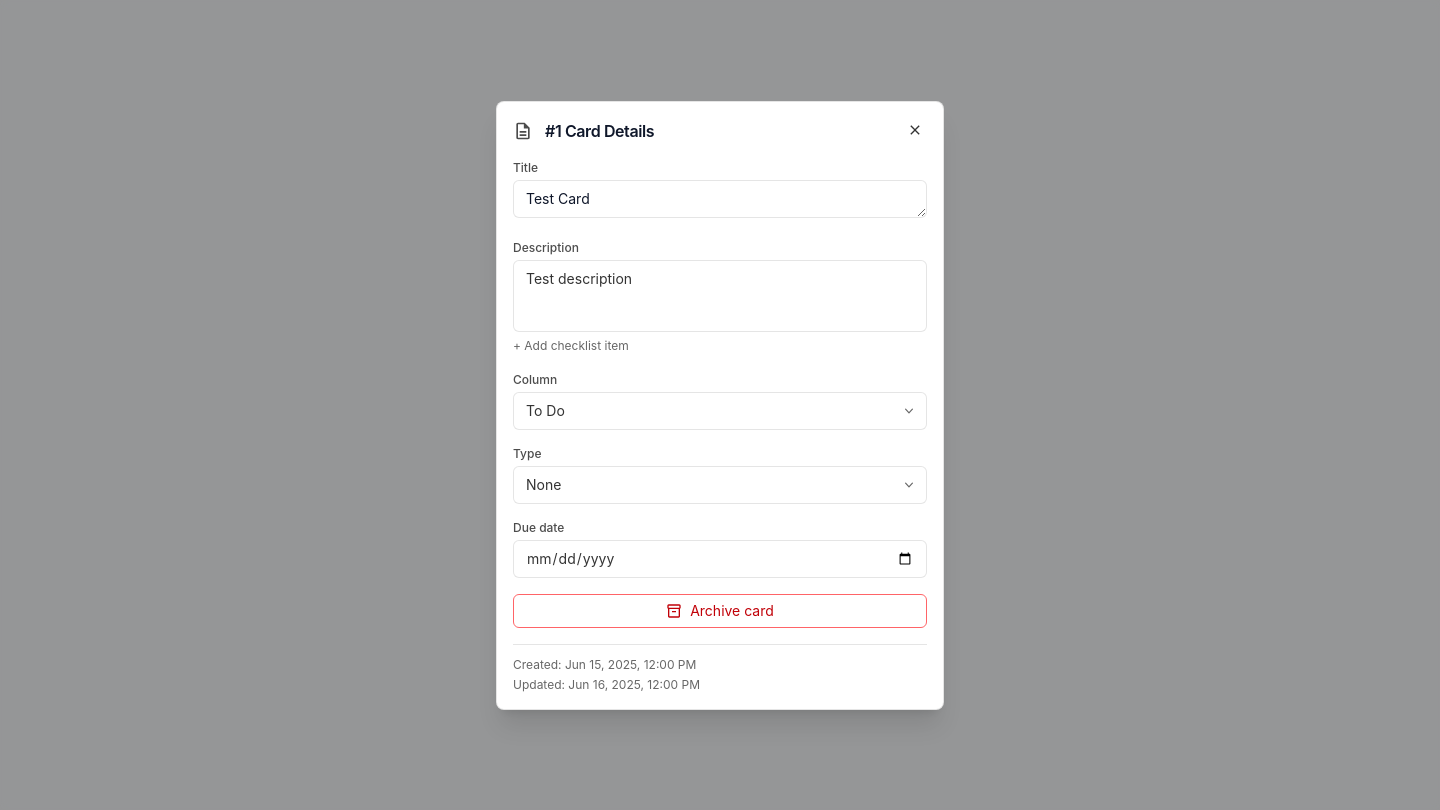
Test: CardDetailModal › saves description on blur and returns to preview
Click the element with test id "card-detail-description-preview": (720, 296) [513, 260, 927, 332]
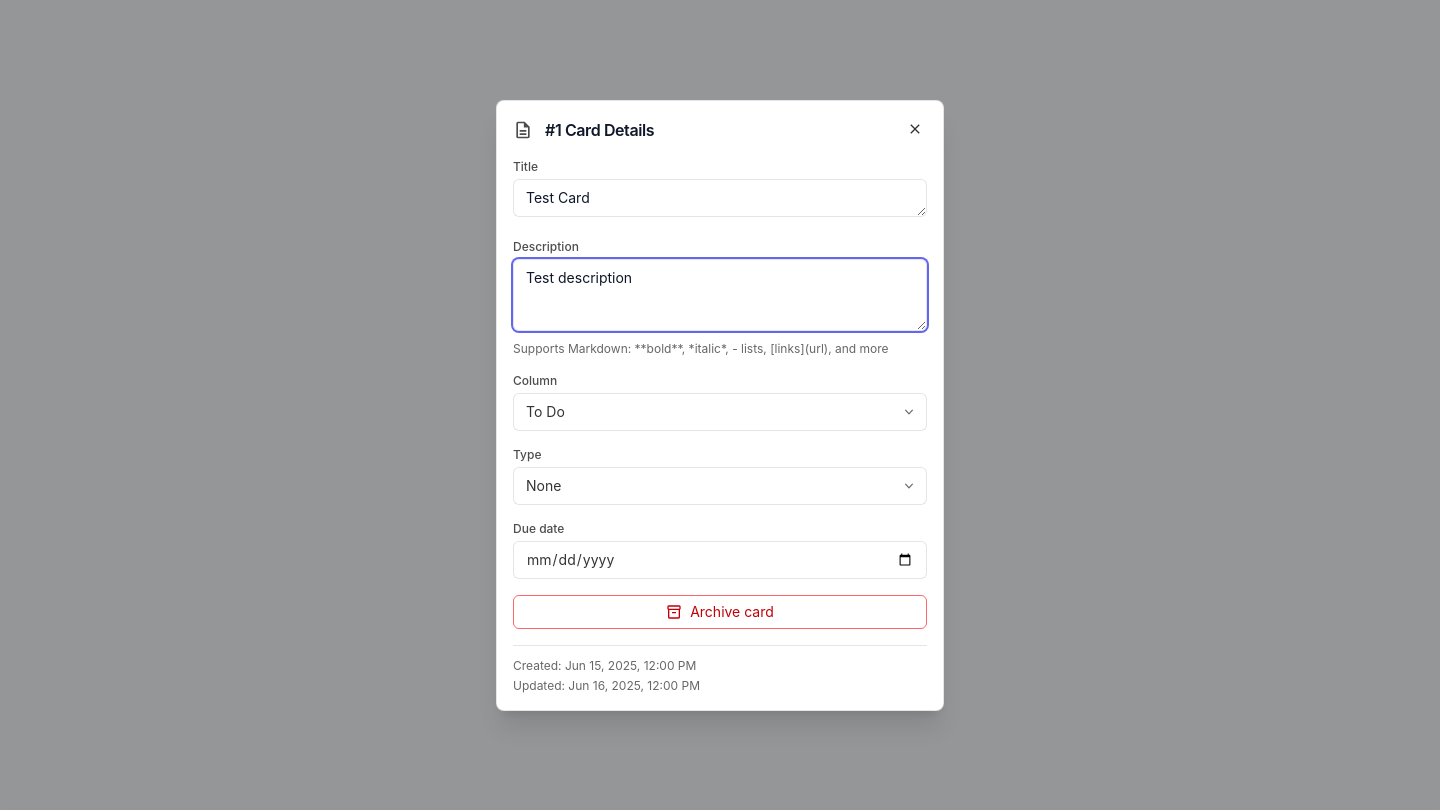
Replace the text in the text box with test id "card-detail-description" with "New description": (720, 294) [513, 258, 927, 330]
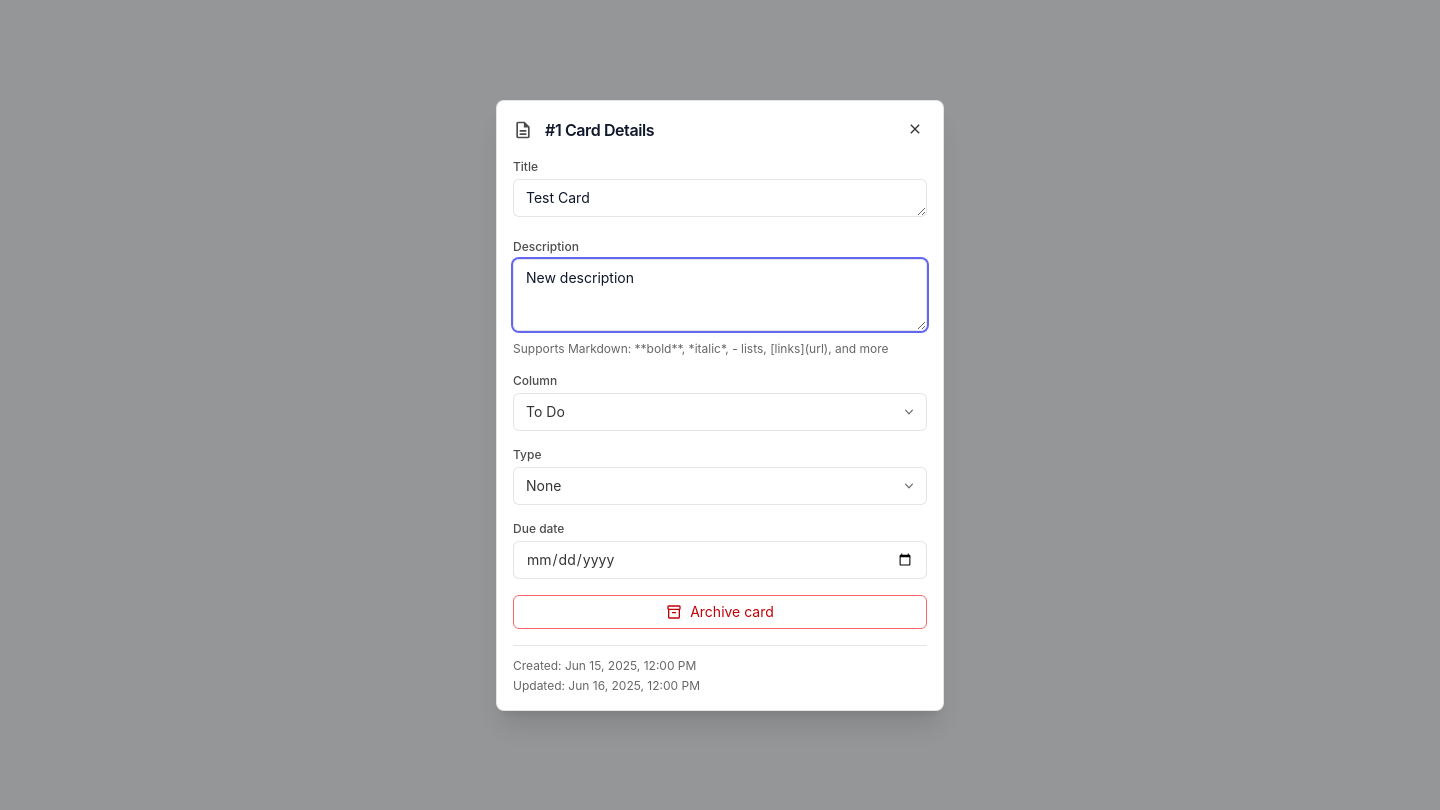
Leave the text box with test id "card-detail-description", box [513, 258, 927, 330]
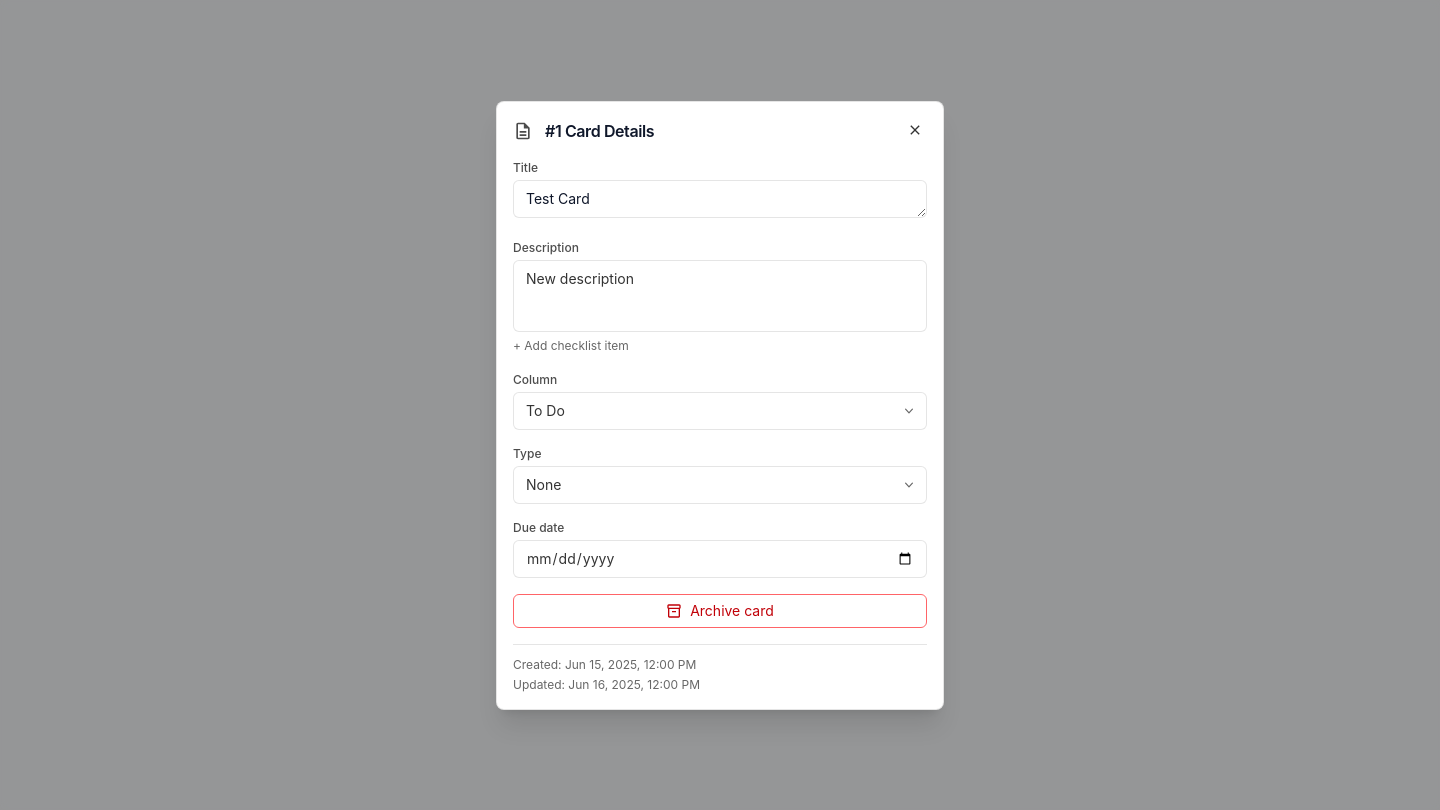
Check: the text box with test id "card-detail-description" is gone
